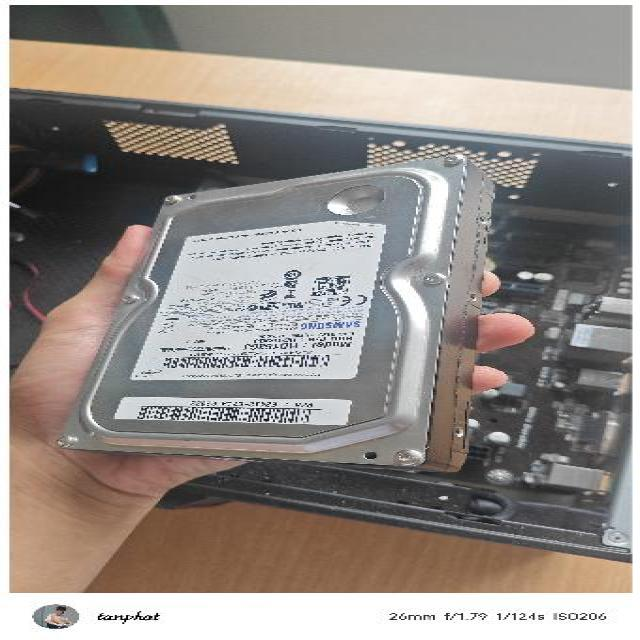DISK: (50, 152, 500, 476)
